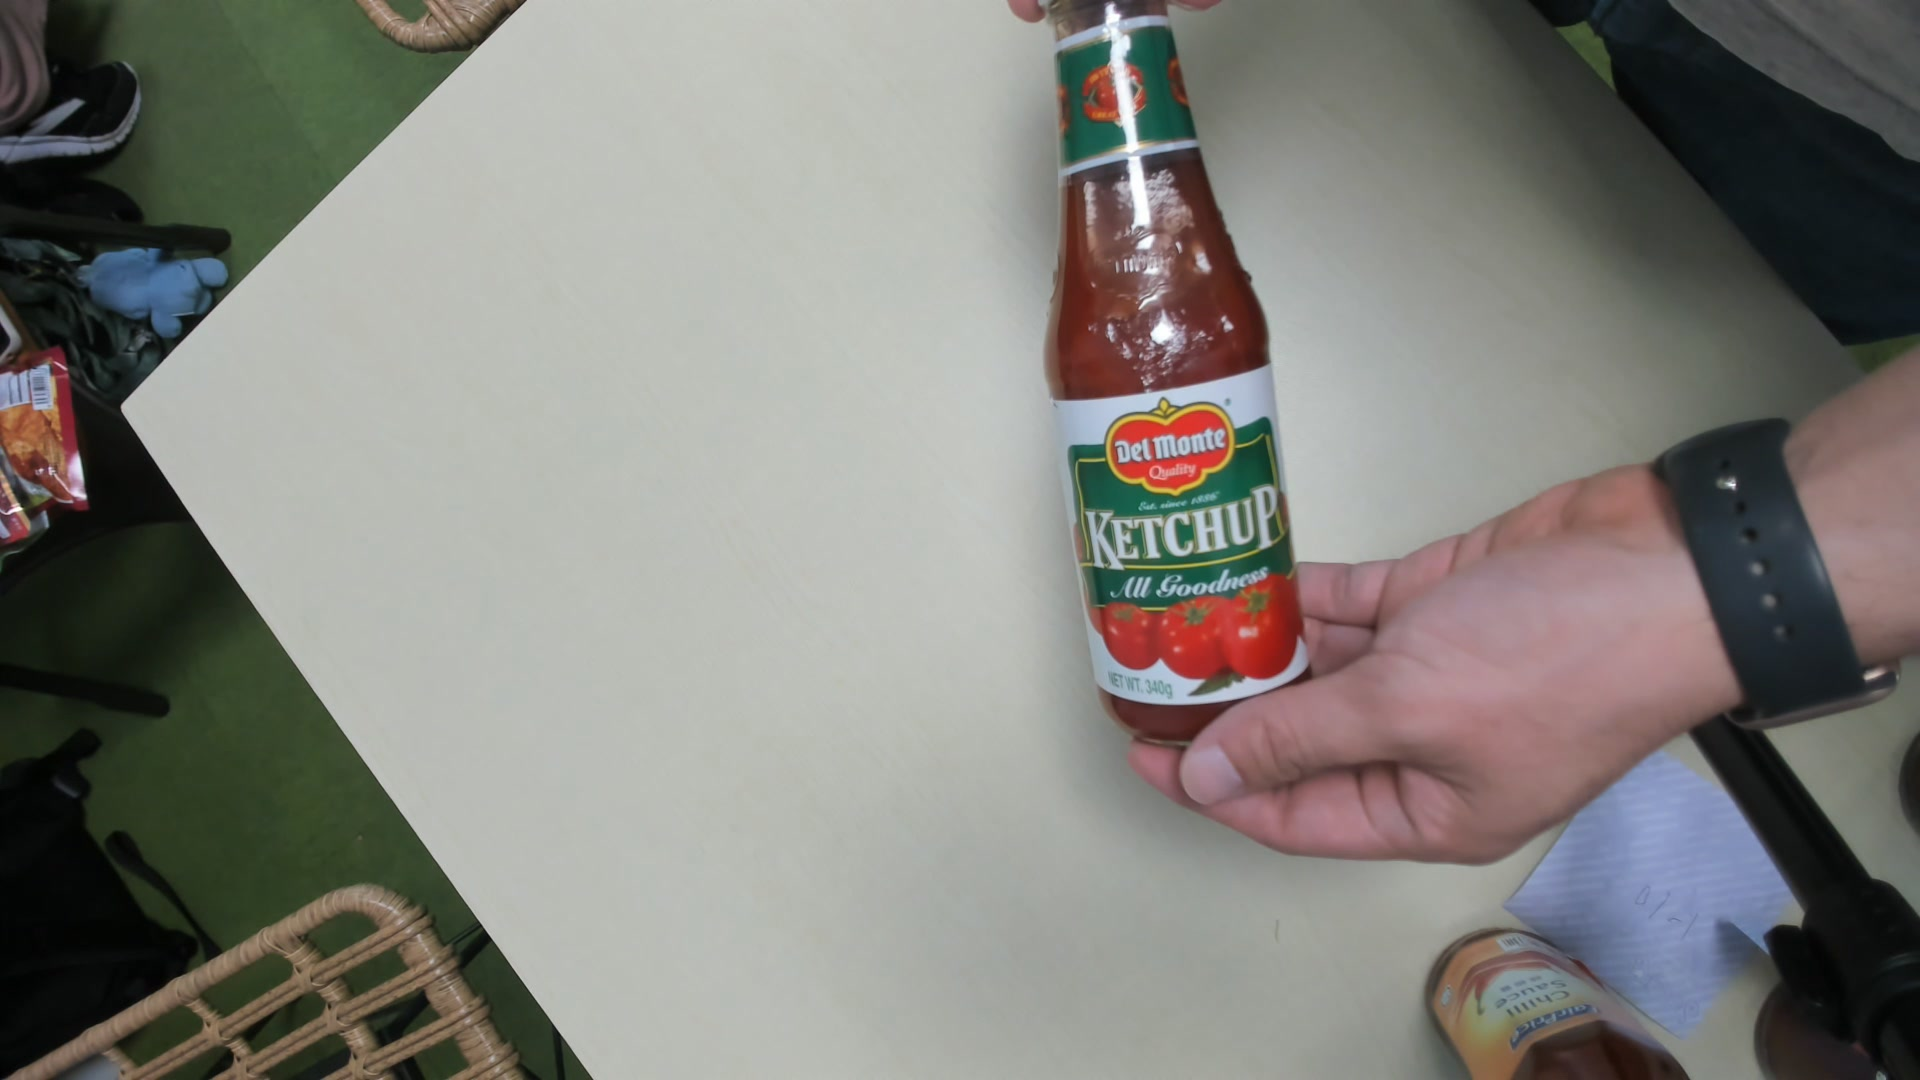KetchupChillSauce_300-399g_Halal_NonHealthy: (1040, 8, 1315, 749)
